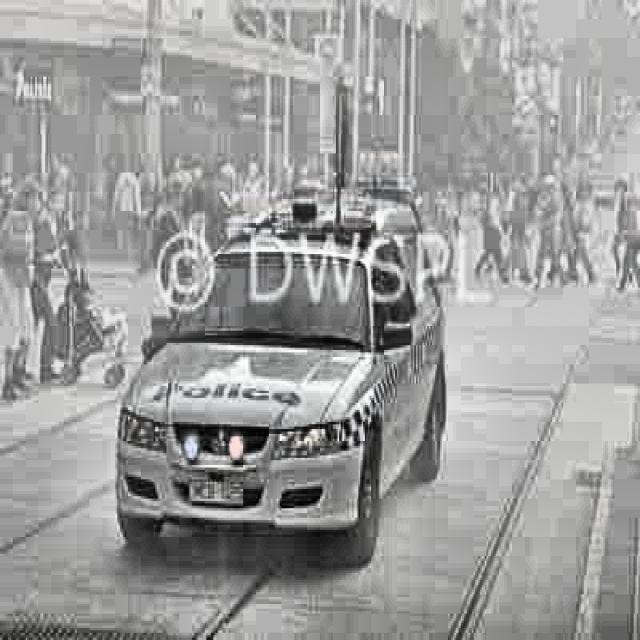license_plate: (189, 474, 247, 511)
